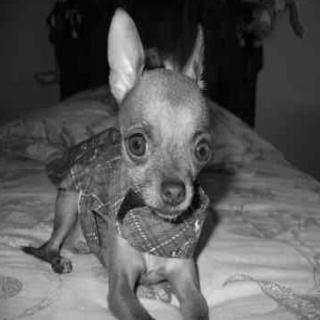dog: (100, 5, 220, 224)
nose: (157, 177, 188, 208)
